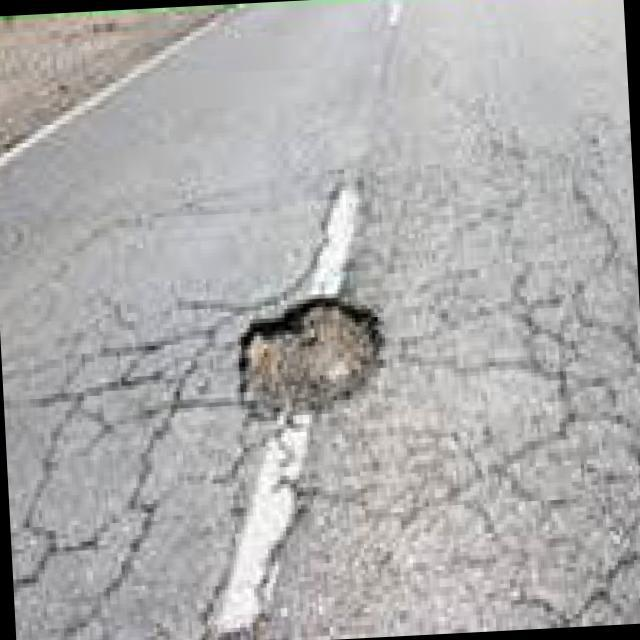Pothole: (216, 266, 414, 422)
